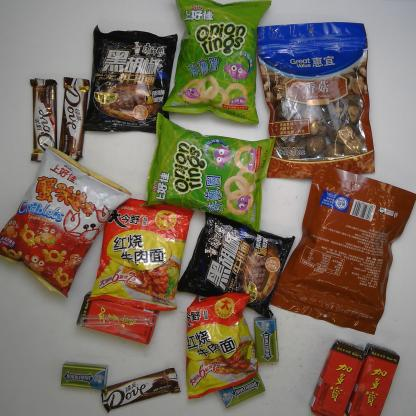Chocolate: (101, 366, 182, 414), (59, 76, 90, 162), (29, 77, 59, 164)
Dried Food: (270, 162, 416, 336), (255, 21, 376, 180)
Drink: (76, 291, 160, 345), (308, 338, 366, 416), (344, 342, 400, 415)
Gum: (218, 370, 266, 409), (60, 360, 109, 390), (253, 315, 280, 364)
Instant Noodles: (178, 211, 296, 319), (88, 198, 194, 312), (84, 22, 180, 135), (185, 292, 260, 401)
Puffed Food: (0, 144, 133, 300), (139, 112, 276, 233), (161, 0, 273, 126)
